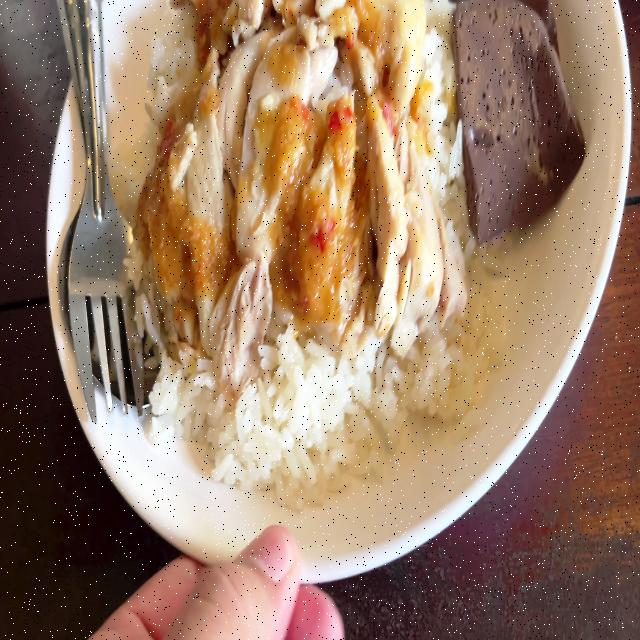boiled_chicken: (135, 0, 446, 332)
boiled_chicken_blood_jelly: (452, 8, 575, 213)
chicken_rice: (118, 0, 577, 484)
